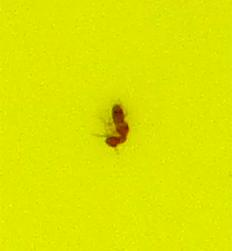Hymenoptera: (100, 100, 132, 151)
